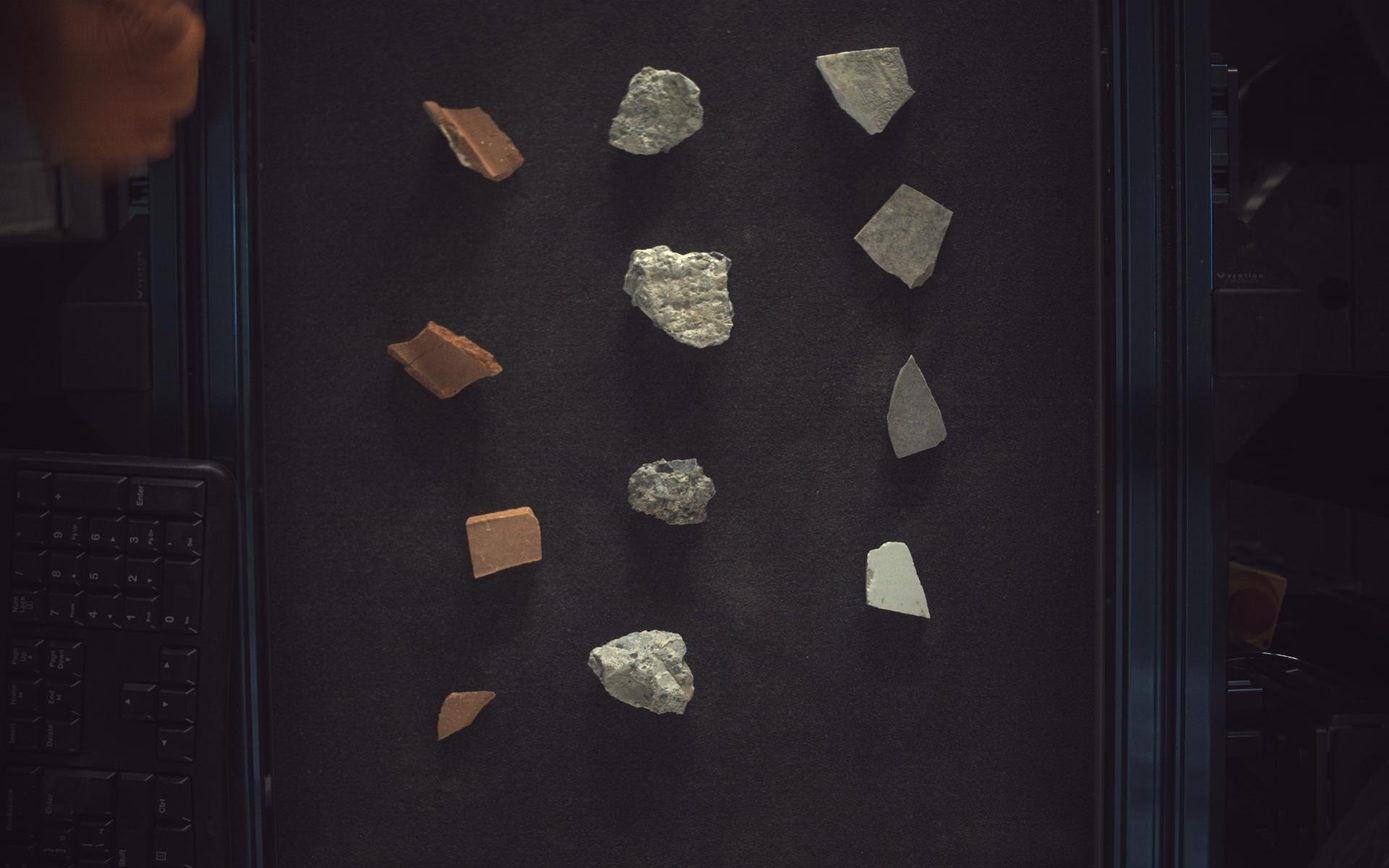brick: (387, 320, 502, 399), (423, 100, 524, 181), (468, 507, 542, 579), (437, 693, 496, 741)
concrete: (624, 245, 734, 349), (589, 631, 695, 715), (610, 65, 705, 154), (629, 459, 716, 525)
tile: (857, 183, 955, 287), (817, 48, 916, 133), (889, 357, 948, 458), (867, 542, 932, 619)
